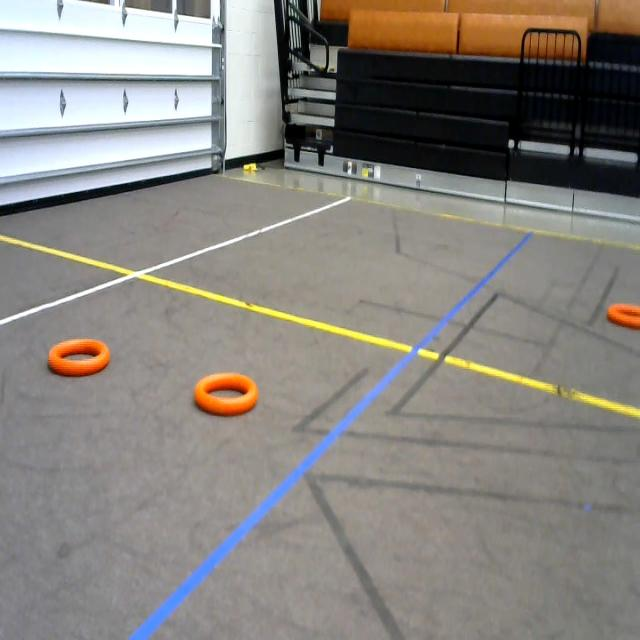note: (185, 357, 267, 428), (47, 333, 122, 384), (602, 296, 640, 362)
